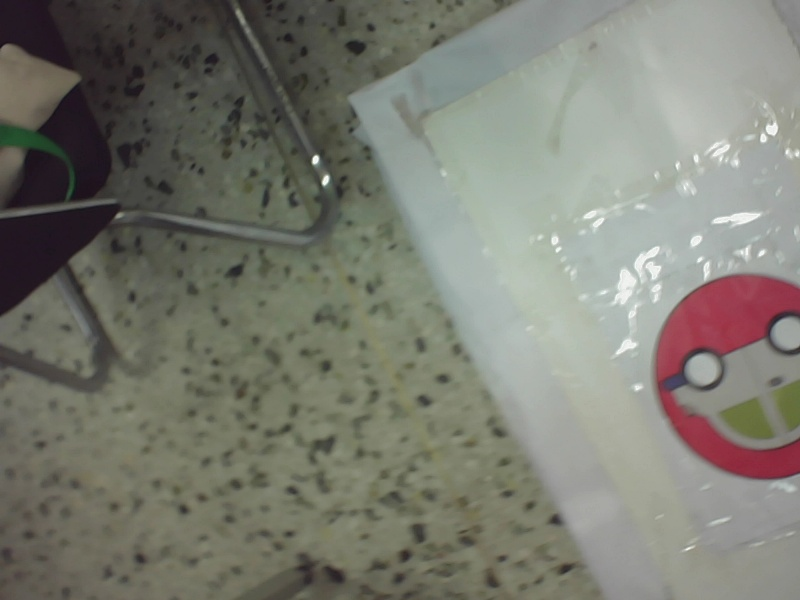areaC: (652, 267, 799, 489)
